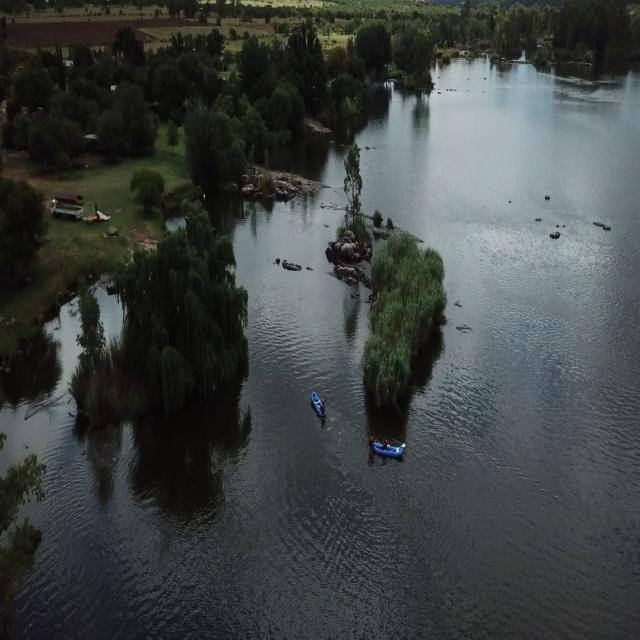kayak: (368, 429, 408, 465), (310, 387, 328, 422)
